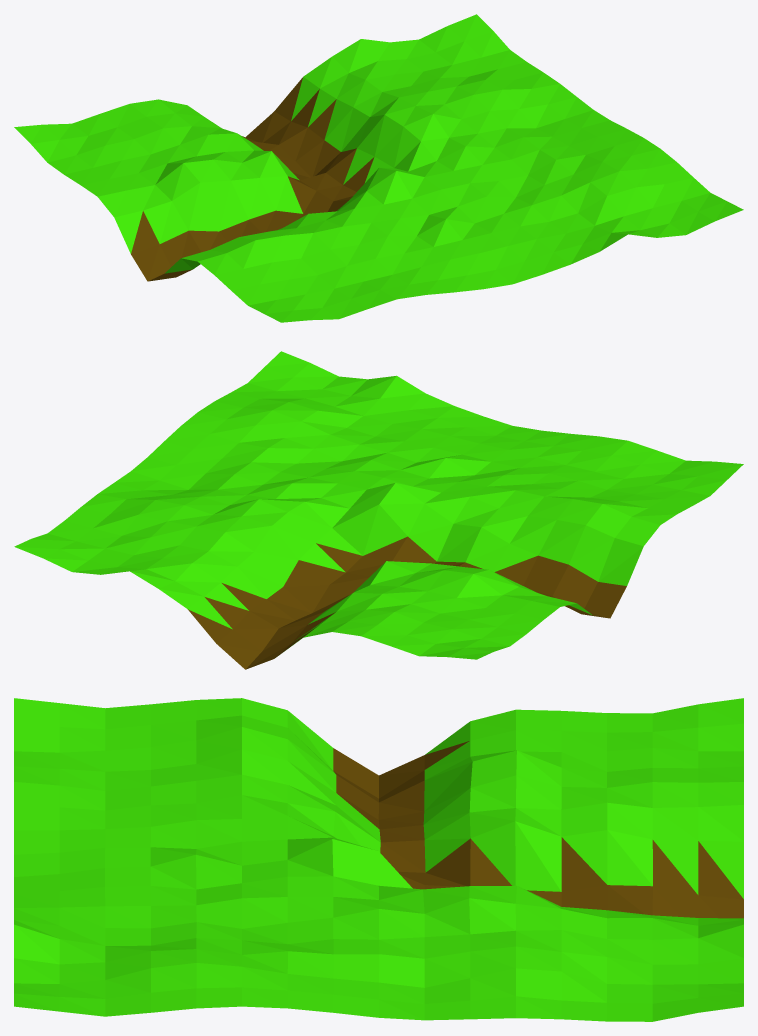
The model's file is oja_right_bottom_corner.fbx.
3 views of the same model, one above another, from view 1: azimuth 30°, elevation 25°; view 2: azimuth 150°, elevation 25°; view 3: azimuth 270°, elevation 25° (orthographic). The views are drawn at different scales.
Parts seen in each view (by area): view 1: oja_Right_Bottom_Corner; view 2: oja_Right_Bottom_Corner; view 3: oja_Right_Bottom_Corner.
Boxes of the visible parts, left/top/right/bottom form: oja_Right_Bottom_Corner: left=14, top=14, right=743, bottom=322; oja_Right_Bottom_Corner: left=14, top=351, right=743, bottom=669; oja_Right_Bottom_Corner: left=14, top=698, right=743, bottom=1021.
Bounding box in the file's own units: 2000 × 316 × 2000.
